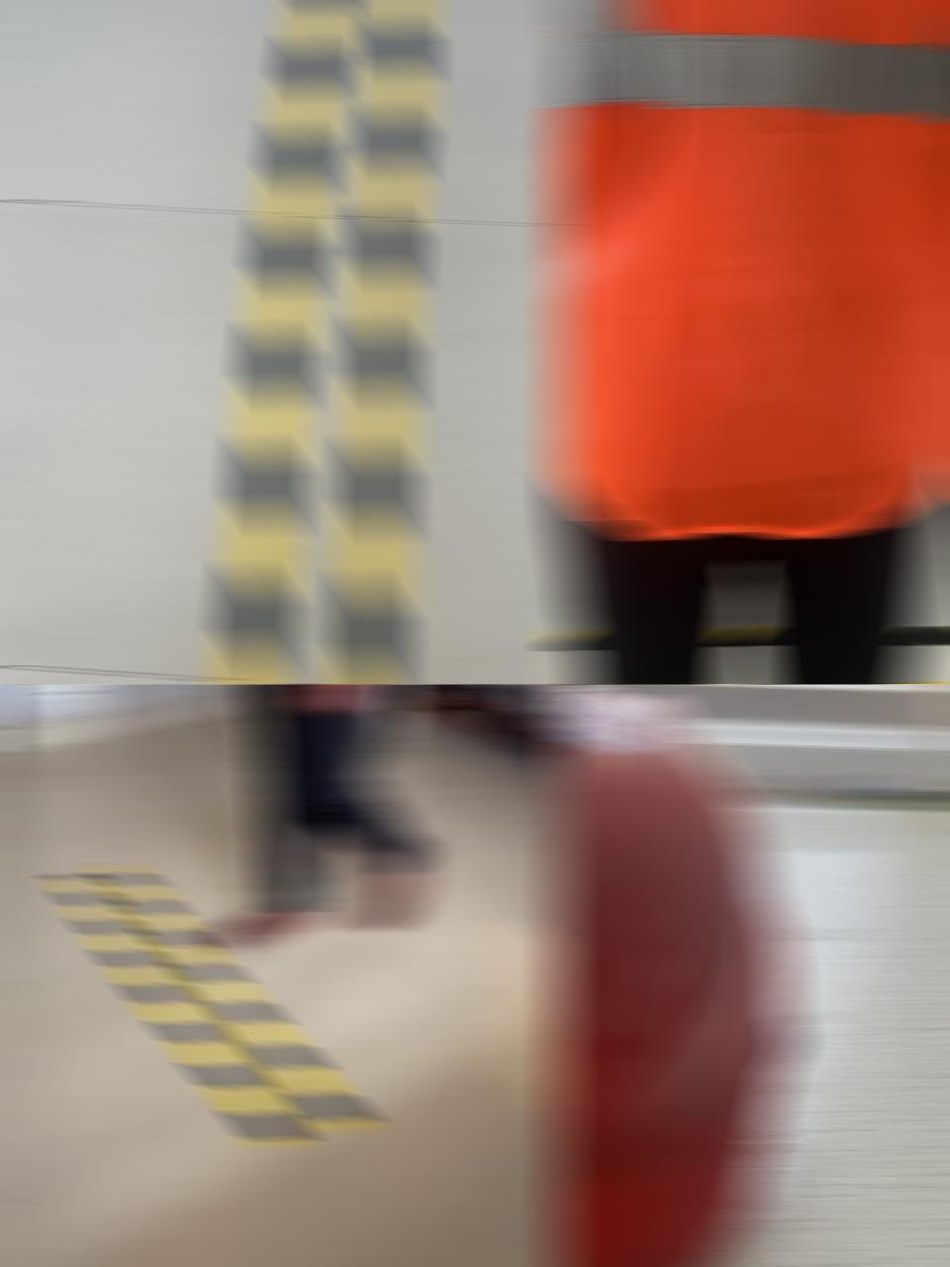BorderLine: (198, 0, 431, 684), (53, 858, 372, 1149), (550, 622, 950, 684)
Helmet: (550, 684, 797, 1267)
Person: (550, 0, 950, 684), (196, 684, 466, 956)
Vest: (550, 0, 950, 539)
